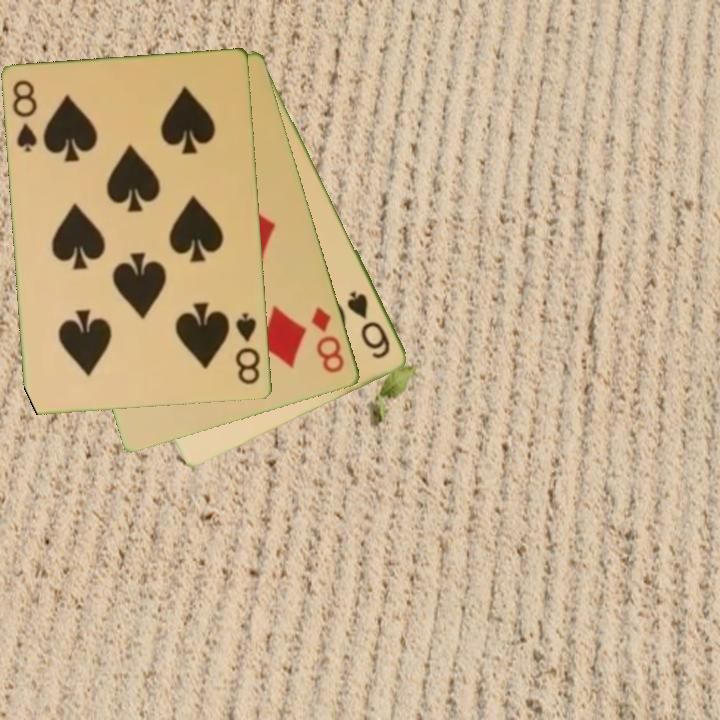6s: (344, 288, 394, 362)
8d: (308, 304, 348, 377)
8s: (232, 310, 264, 388), (10, 77, 41, 155)
